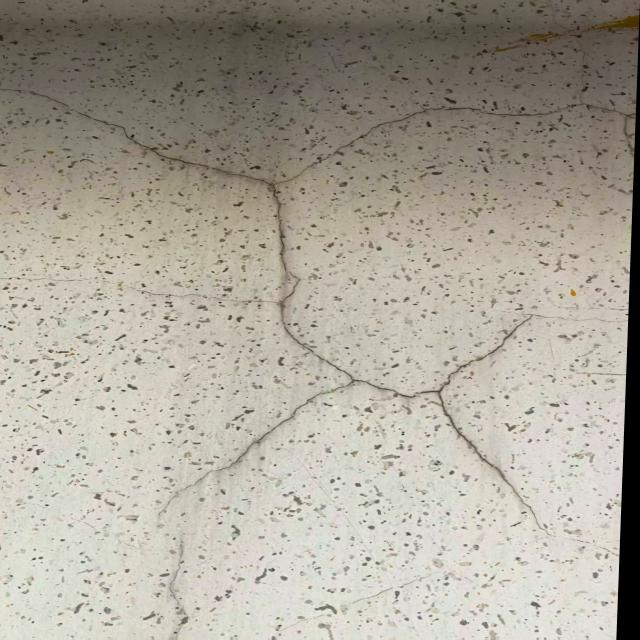crack: (0, 4, 635, 634)
